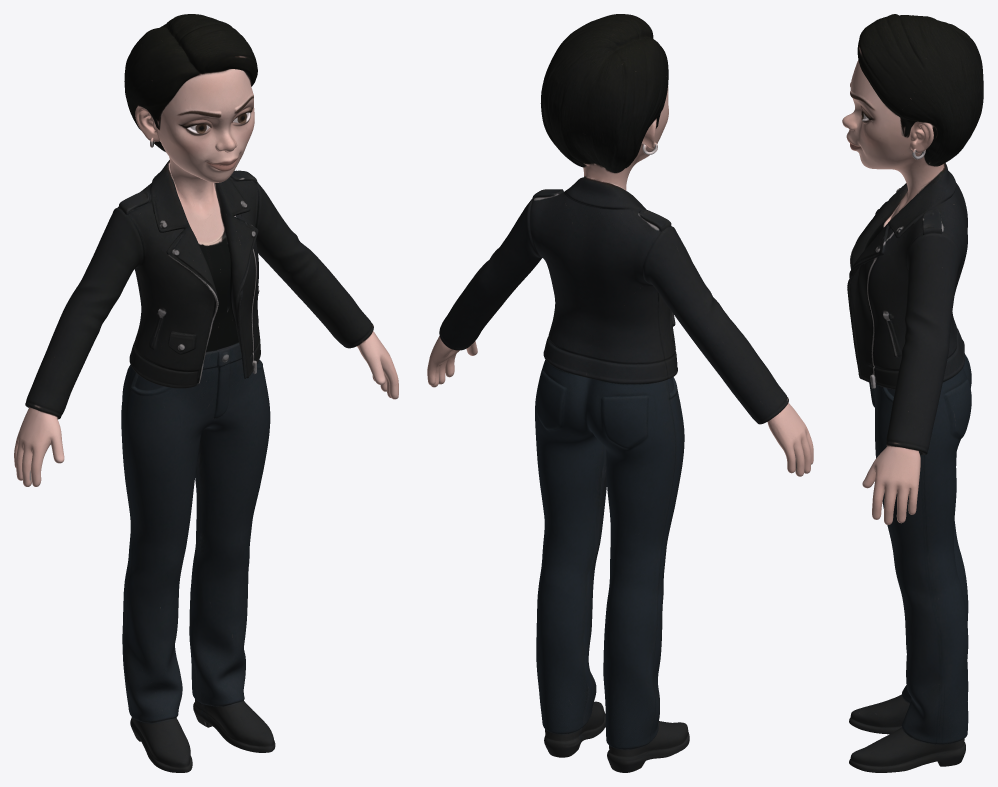
File: defne_ham_meshopt.glb
3 views of the same model, side by side, from view 1: azimuth 30°, elevation 25°; view 2: azimuth 150°, elevation 25°; view 3: azimuth 270°, elevation 25° (orthographic).
Size of the model in its own units: 1.03 by 1.9 by 0.3357.
Materials: 1 (1 with a texture image).
